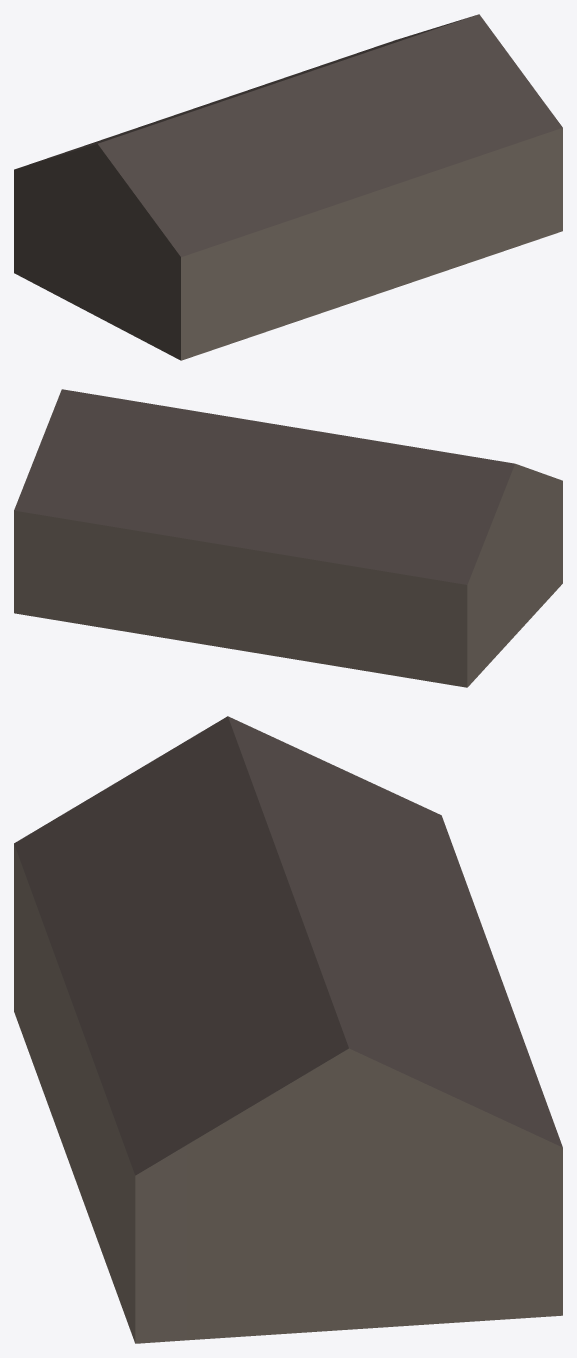
3 views of the same model, one above another, from view 1: azimuth 30°, elevation 25°; view 2: azimuth 150°, elevation 25°; view 3: azimuth 270°, elevation 25° (orthographic). The views are drawn at different scales.
Parts seen in each view (by area): view 1: HP-w858807470; view 2: HP-w858807470; view 3: HP-w858807470.
Boxes of the visible parts, x1=… form: HP-w858807470: x1=14, y1=14, x2=562, y2=360; HP-w858807470: x1=14, y1=389, x2=562, y2=687; HP-w858807470: x1=14, y1=716, x2=562, y2=1343.
Size of the model in its own units: 13.8 by 5.02 by 8.88.
